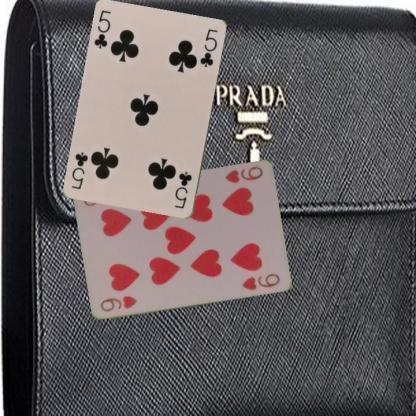5c: (172, 168, 194, 210), (92, 8, 113, 50)
9h: (221, 164, 264, 185), (98, 294, 138, 314)
